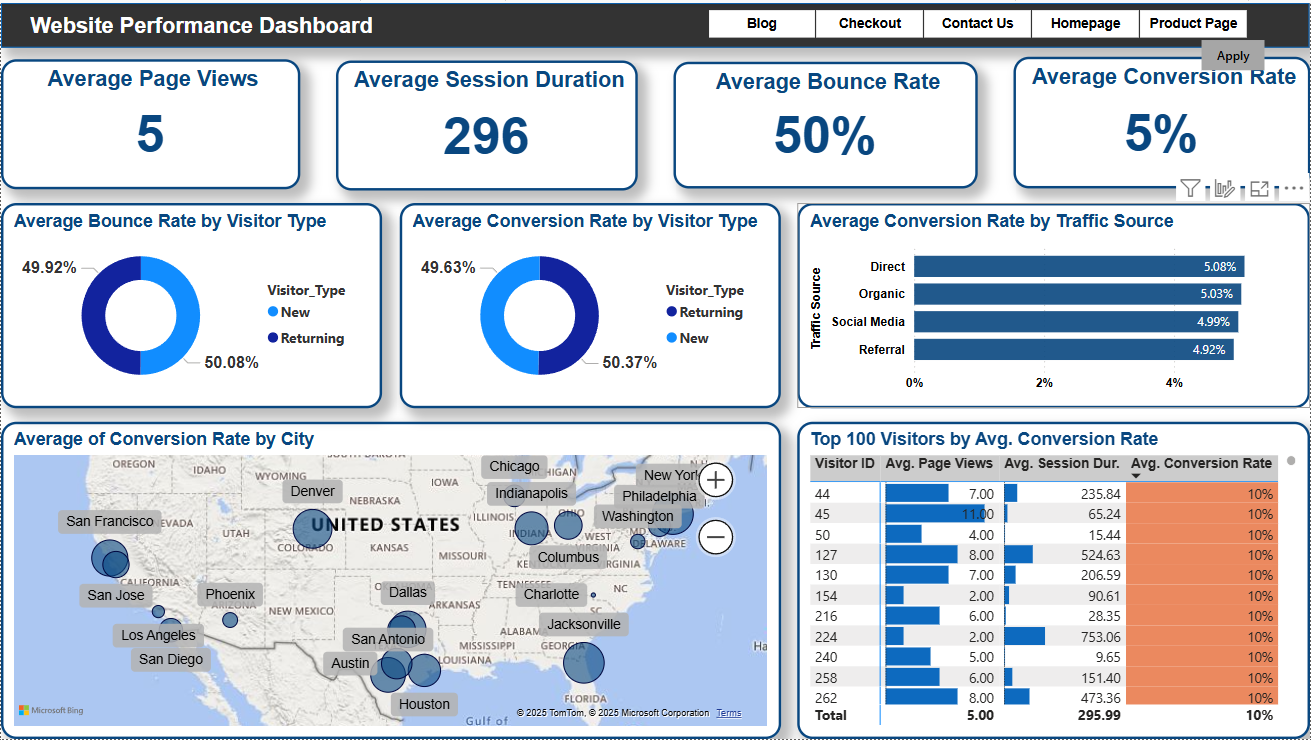

Layout of this report page (visuals, bound fields, positions):
{"tool":"powerbi","page":{"name":"Dashboard","canvas":[1280,720],"ordinal":0},"visuals":[{"type":"shape","box":[0,0,1280,43.8],"z":0},{"type":"textbox","box":[0,5,392.5,38.8],"z":1000},{"type":"kpi","title":"Average Page Views","fields":{"Indicator":["Avg(Website performance metrics data.Page_Views)"],"TrendLine":["Website performance metrics data.Exit_Pages"]},"box":[0,55,292.5,127.5],"z":2000},{"type":"kpi","title":"Average Session Duration","fields":{"Indicator":["Avg(Website performance metrics data.Session_Duration)"],"TrendLine":["Website performance metrics data.Exit_Pages"]},"box":[327.5,56.2,295,127.5],"z":3000},{"type":"kpi","title":"Average Bounce Rate","fields":{"Indicator":["Avg(Website performance metrics data.Bounce_Rate)"],"TrendLine":["Website performance metrics data.Exit_Pages"]},"box":[657.5,57.5,297.5,123.8],"z":4000},{"type":"kpi","title":"Average Conversion Rate","fields":{"Indicator":["Avg(Website performance metrics data.Conversion_Rate)"],"TrendLine":["Website performance metrics data.Exit_Pages"]},"box":[990,52.5,290,128.8],"z":5000},{"type":"donutChart","title":"Average Bounce Rate by Visitor Type","fields":{"Y":["Avg(Website performance metrics data.Bounce_Rate)"],"Category":["Website performance metrics data.Visitor_Type"]},"box":[0,195.7,373,200.5],"z":6000},{"type":"donutChart","title":"Average Conversion Rate by Visitor Type","fields":{"Category":["Website performance metrics data.Visitor_Type"],"Y":["Avg(Website performance metrics data.Conversion_Rate)"]},"box":[390.1,195.7,373,200.5],"z":7000},{"type":"barChart","title":"Average Conversion Rate by Traffic Source","fields":{"Category":["Website performance metrics data.Traffic_Source"],"Y":["Avg(Website performance metrics data.Conversion_Rate)"]},"box":[778.9,195.7,501.4,200.5],"z":8000},{"type":"map","title":"Average of Conversion Rate by City","fields":{"Size":["Avg(Website performance metrics data.Conversion_Rate)"],"Category":["Website performance metrics data.City"]},"box":[0,409.6,763,310.6],"z":9000},{"type":"pivotTable","title":"Top 100 Visitors by Avg. Conversion Rate","fields":{"Rows":["Website performance metrics data.Visitor_ID"],"Values":["Avg(Website performance metrics data.Page_Views)","Avg(Website performance metrics data.Session_Duration)","Avg(Website performance metrics data.Conversion_Rate)"]},"box":[778.9,409.6,501.4,310.6],"z":10000},{"type":"slicer","fields":{"Values":["Website performance metrics data.Exit_Pages"]},"box":[666.4,0,576,70.9],"z":11001}]}

Visuals, with their boxes in screenshot pixels (x1, y1, x2, y2), scaled from the page's 1280x720 canvas onto the 1311x740 screenshot:
shape: <region>0, 0, 1310, 45</region>
textbox: <region>0, 5, 402, 45</region>
"Average Page Views" kpi: <region>0, 57, 300, 188</region>
"Average Session Duration" kpi: <region>335, 58, 638, 189</region>
"Average Bounce Rate" kpi: <region>673, 59, 978, 186</region>
"Average Conversion Rate" kpi: <region>1014, 54, 1310, 186</region>
"Average Bounce Rate by Visitor Type" donutChart: <region>0, 201, 382, 407</region>
"Average Conversion Rate by Visitor Type" donutChart: <region>400, 201, 782, 407</region>
"Average Conversion Rate by Traffic Source" barChart: <region>798, 201, 1310, 407</region>
"Average of Conversion Rate by City" map: <region>0, 421, 781, 739</region>
"Top 100 Visitors by Avg. Conversion Rate" pivotTable: <region>798, 421, 1310, 739</region>
slicer - Website performance metrics data.Exit_Pages: <region>683, 0, 1272, 73</region>
